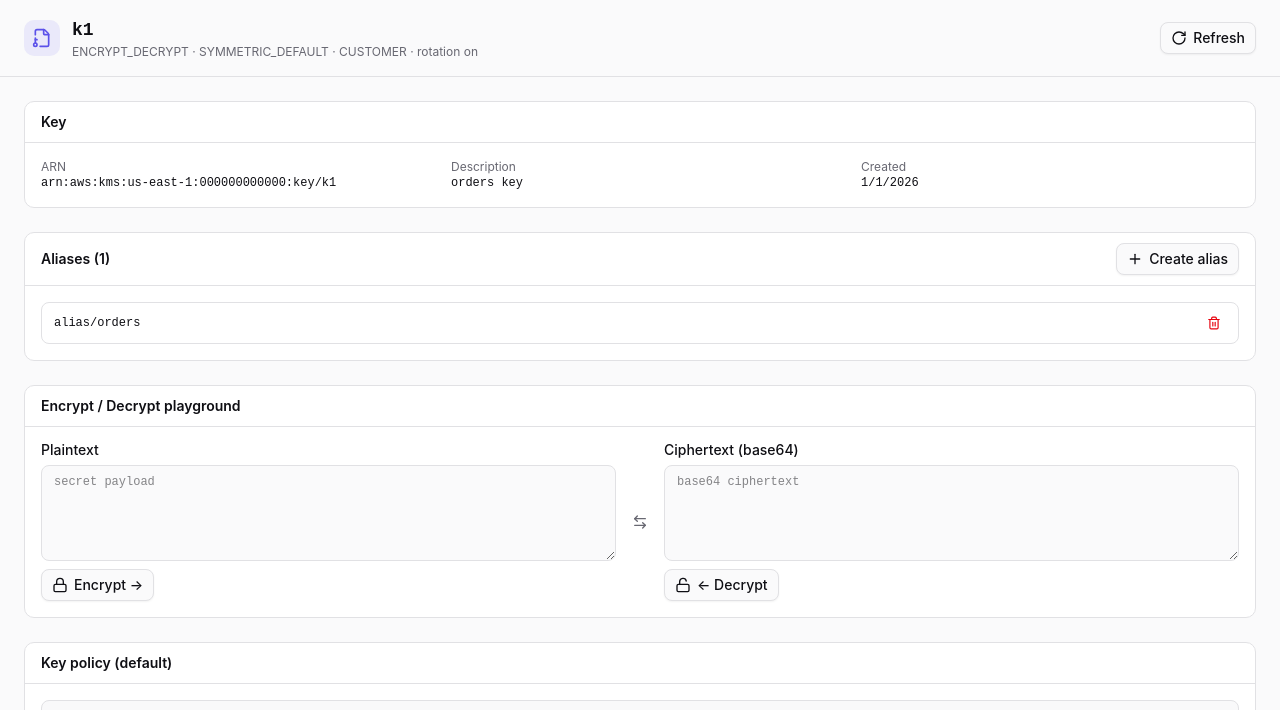
Test case: KeyView › encrypts through the playground
This screenshot has width=1280, height=710.
Type "secret-hello" into the text box labelled "Plaintext" at (328, 513), box 41,465 -> 616,561
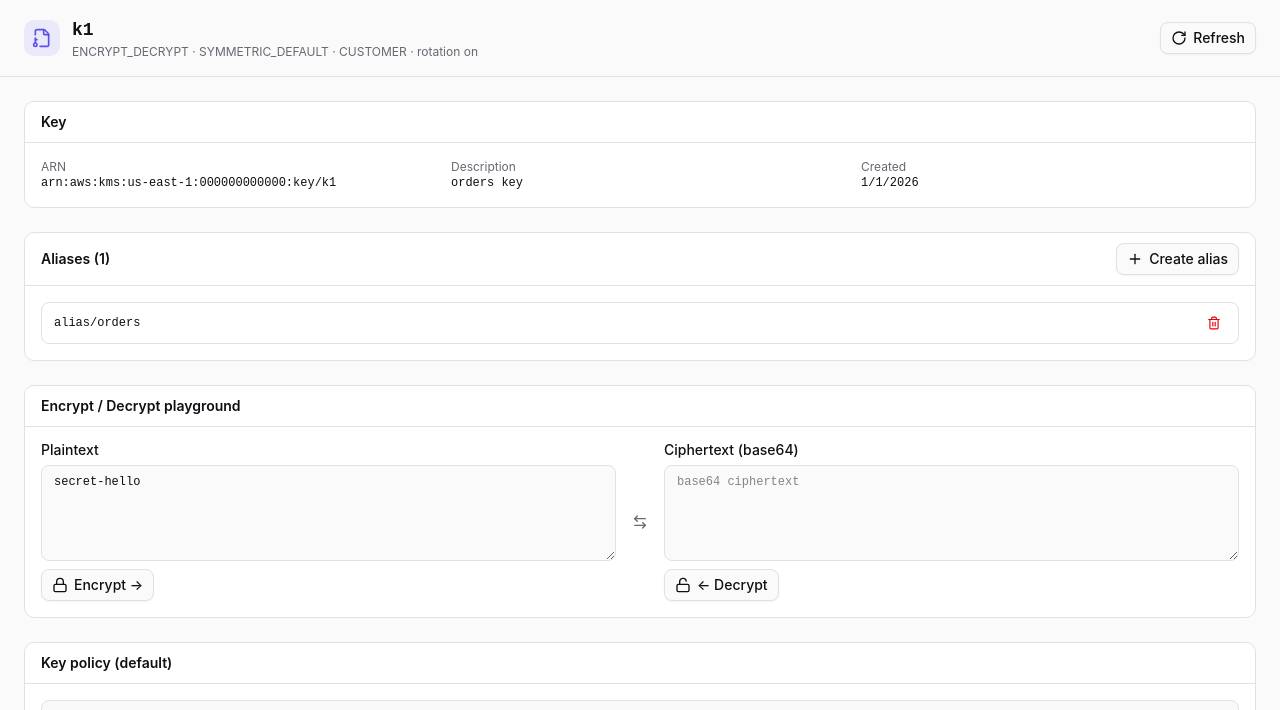
Click the button "Encrypt →" at (98, 585), box 41,569 -> 154,601
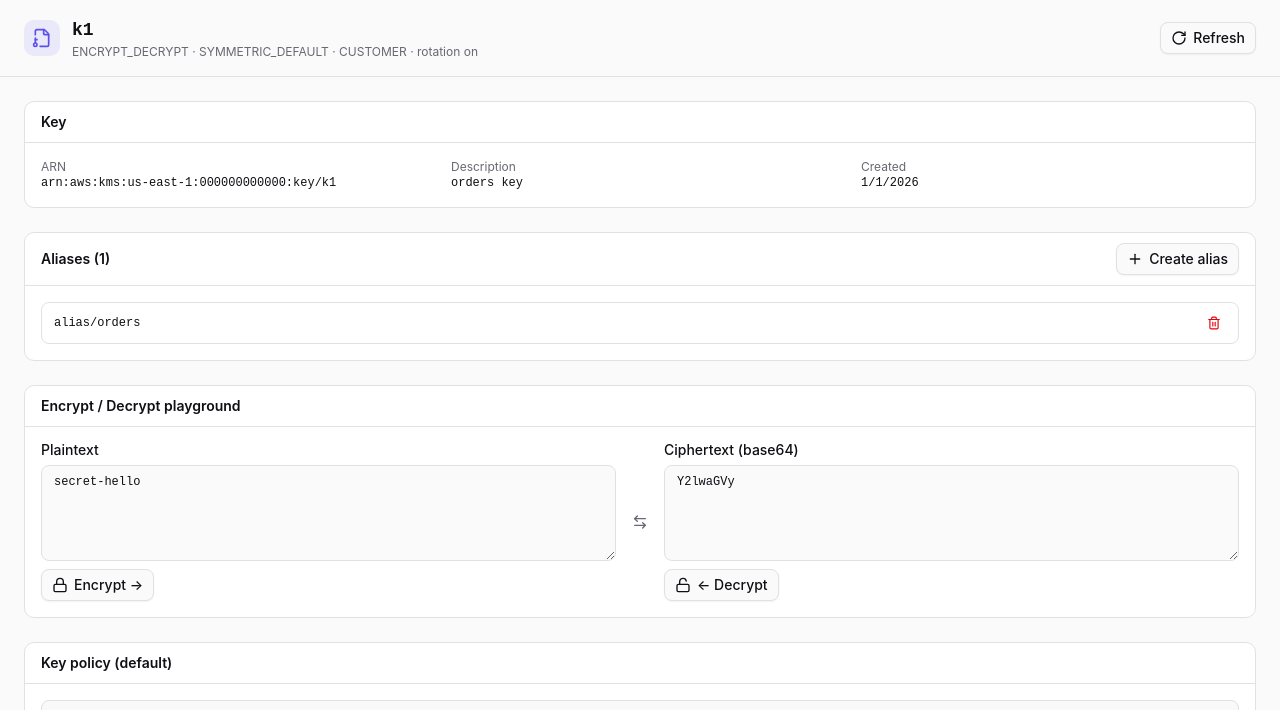
Expected: the text box labelled "Ciphertext (base64)" holds "Y2lwaGVy", 664,465 -> 1239,561
